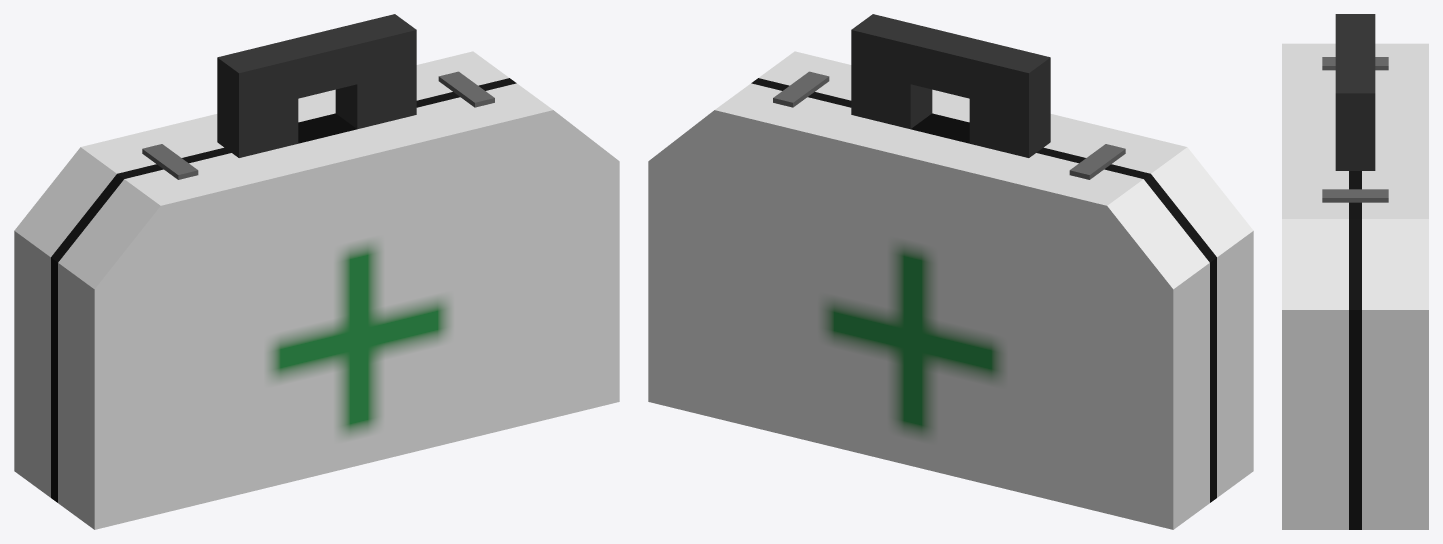
File: Medkit.fbx
The picture shows the model from 3 angles, left to right: view 1: azimuth 30°, elevation 25°; view 2: azimuth 150°, elevation 25°; view 3: azimuth 270°, elevation 25°; orthographic projection. The views are drawn at different scales.
Parts seen in each view (by area): view 1: MedKit; view 2: MedKit; view 3: MedKit.
Boxes of the visible parts, bbox=[...] form: MedKit: bbox=[14, 14, 619, 529]; MedKit: bbox=[648, 14, 1253, 529]; MedKit: bbox=[1282, 14, 1428, 529].
Size of the model in its own units: 0.5181 by 0.3705 by 0.1372.
